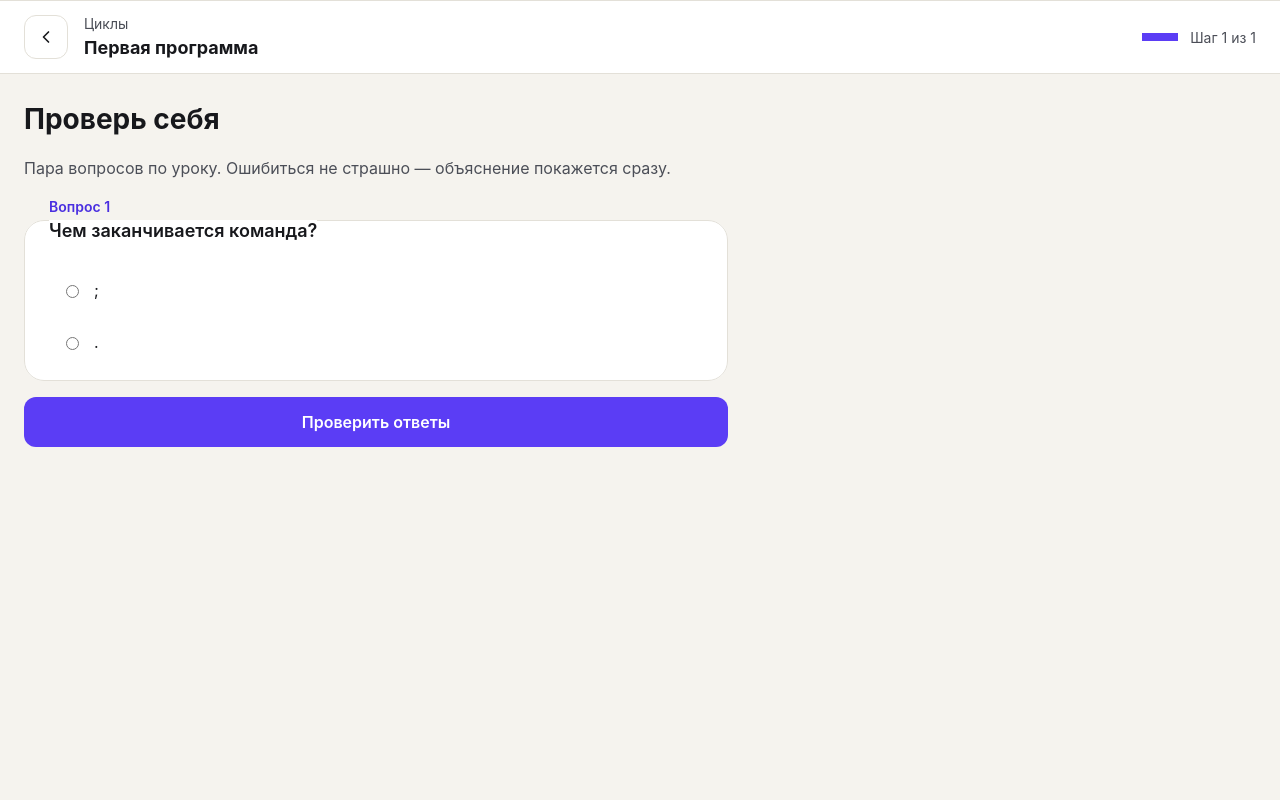
Test: LessonView › пройден весь курс — «курс пройден целиком», главная ссылка — на карту
This screenshot has width=1280, height=800.
What coordinates should you click on to do the following:
click the radio button labelled ";"
I would click on:
 (72, 292)
Its box is [66,285,79,298].
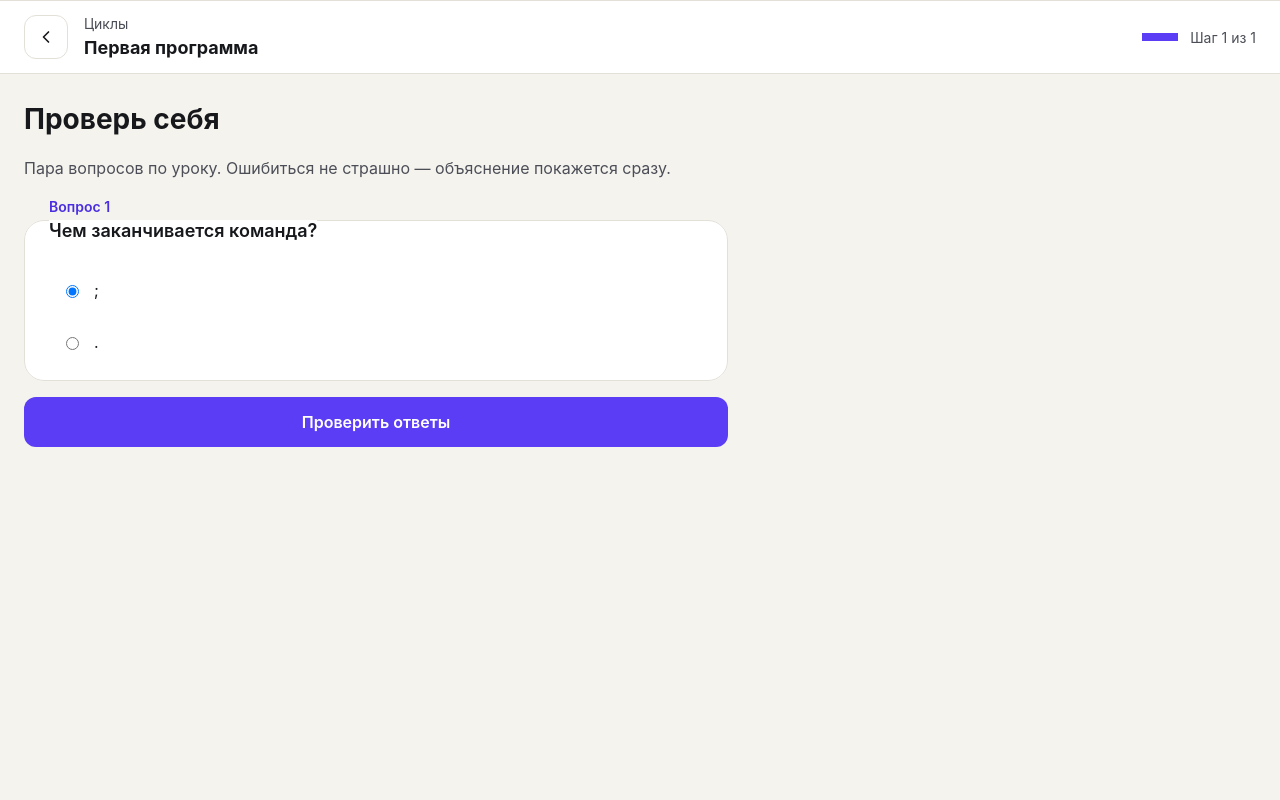
What coordinates should you click on to do the following:
click the button "Проверить ответы"
I would click on:
 (376, 422)
Its box is [24,397,728,447].
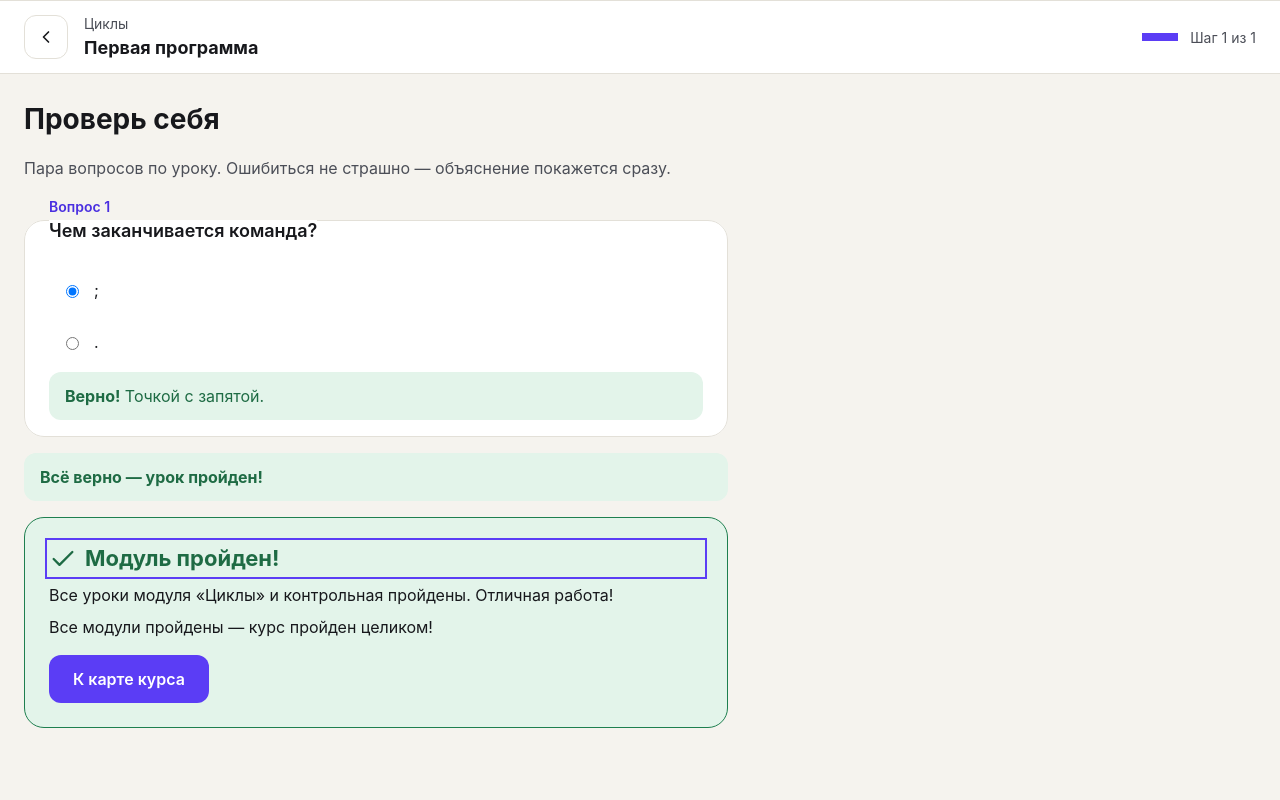
Expected: the element that starts with "Модуль пройден!" shows "Все модули пройдены — курс пройден целиком!", [49,617,433,637]
Expected: the links read "К карте курса", in this order, [49,655,209,703]
